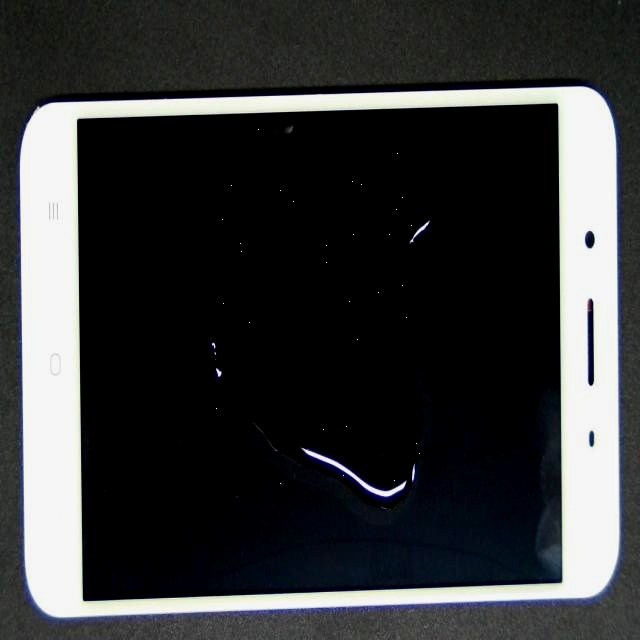oil: (201, 84, 491, 209)
